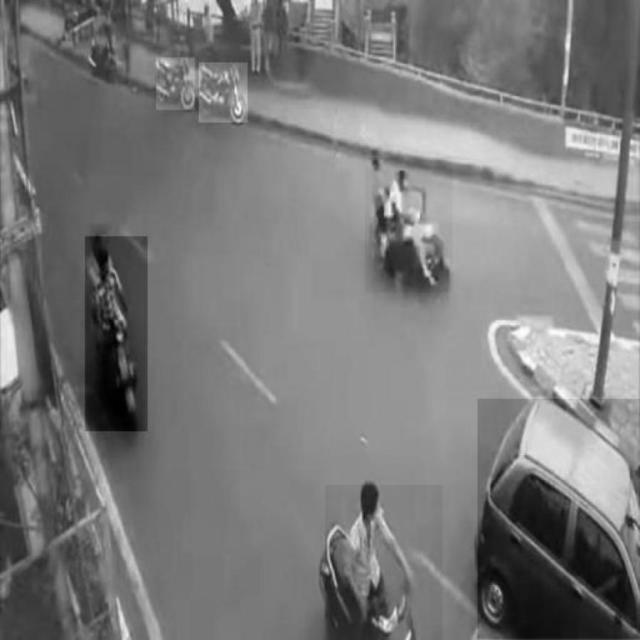accident: (365, 157, 453, 291)
vehicle: (478, 399, 640, 639), (325, 485, 443, 639), (85, 236, 147, 431), (199, 63, 247, 123), (156, 58, 194, 110)
